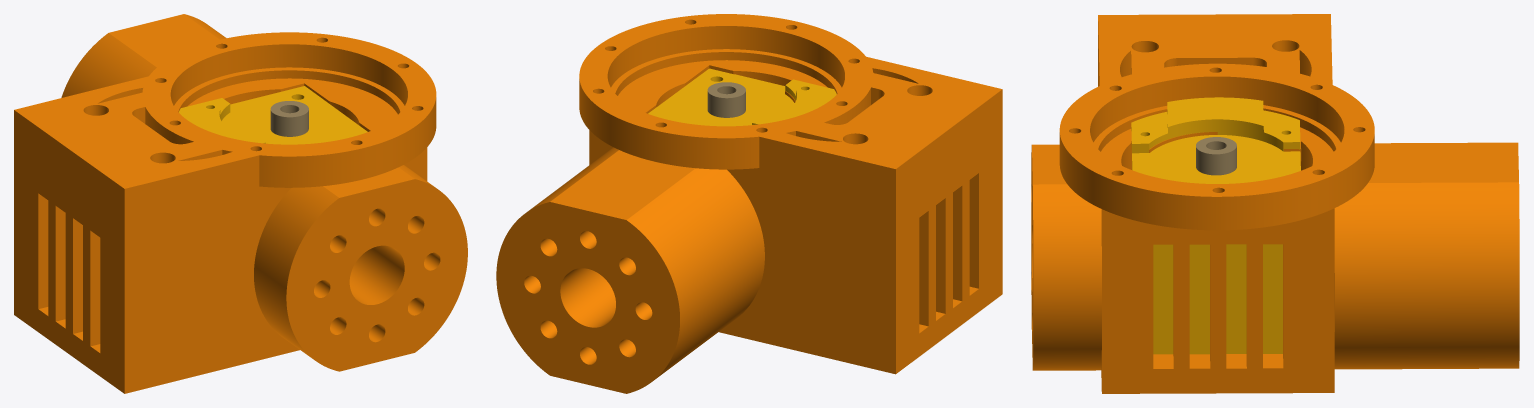
Rendered from Forearm_Joint2.dae.
The picture shows the model from 3 angles, left to right: view 1: azimuth 30°, elevation 25°; view 2: azimuth 150°, elevation 25°; view 3: azimuth 270°, elevation 25°; orthographic projection. The views are drawn at different scales.
Parts seen in each view (by area): view 1: forearm_roll_mount_v2 v2, STS3215_original v1_11; view 2: forearm_roll_mount_v2 v2, STS3215_original v1_11; view 3: forearm_roll_mount_v2 v2, STS3215_original v1_11.
Boxes of the visible parts, x1,y1,x2,y2 form: forearm_roll_mount_v2 v2: (14, 14, 467, 393); STS3215_original v1_11: (179, 86, 367, 144); forearm_roll_mount_v2 v2: (496, 14, 1002, 393); STS3215_original v1_11: (648, 68, 836, 126); forearm_roll_mount_v2 v2: (1031, 14, 1519, 393); STS3215_original v1_11: (1131, 97, 1300, 354).
Size of the model in its own units: 0.0632 by 0.0713 by 0.039.
